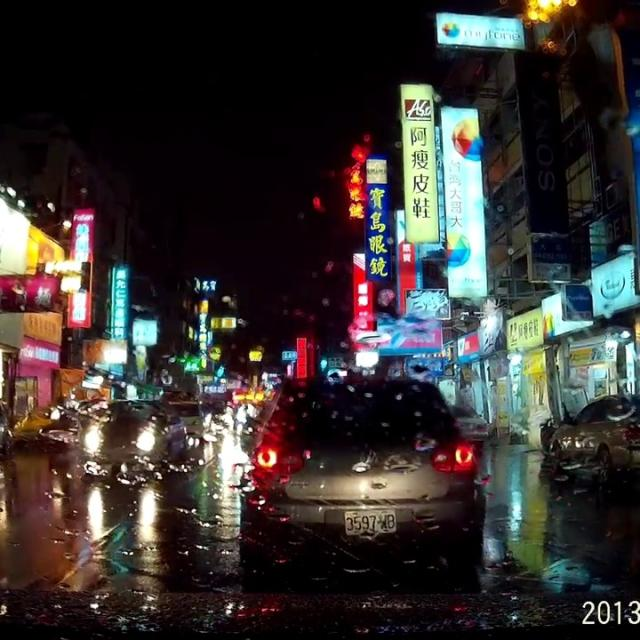Car: (235, 373, 487, 562), (541, 392, 639, 470), (80, 400, 188, 465), (450, 403, 488, 453)
